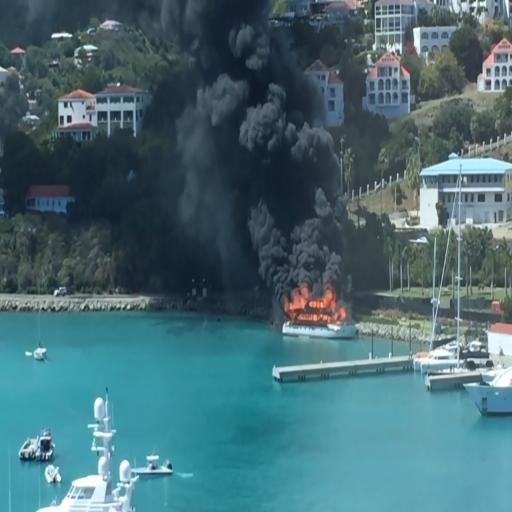fire: (291, 277, 340, 328)
smoke: (210, 26, 312, 244)
